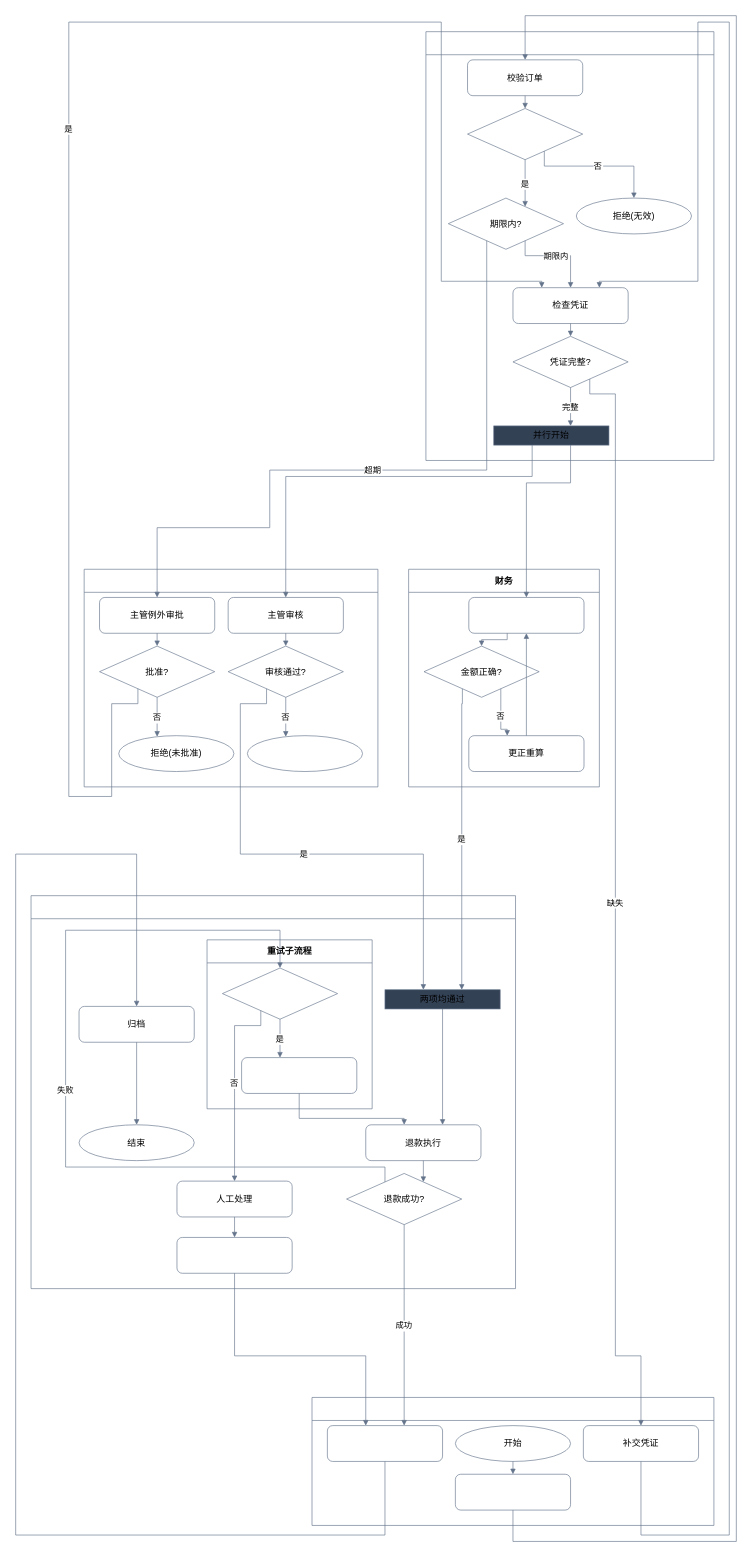
The diagram is 753 pixels wide and 1558 high, and some of its shapes have lost their labels. The shapes that lost their labels are listed below. From the top down, each one's box as (x1, y1, x2, y2) in pixels, then its label:
(467, 108, 583, 160): 订单有效?
(425, 31, 714, 460): 客服
(468, 597, 584, 633): 财务核算
(84, 569, 378, 787): 主管
(247, 735, 363, 772): 拒绝(审核)
(222, 967, 338, 1019): 可重试?
(30, 895, 516, 1289): 支付
(241, 1057, 357, 1093): 重试
(176, 1237, 292, 1273): 人工完成
(327, 1425, 443, 1461): 通知客户
(311, 1397, 714, 1525): 客户
(455, 1474, 571, 1510): 申请退款
